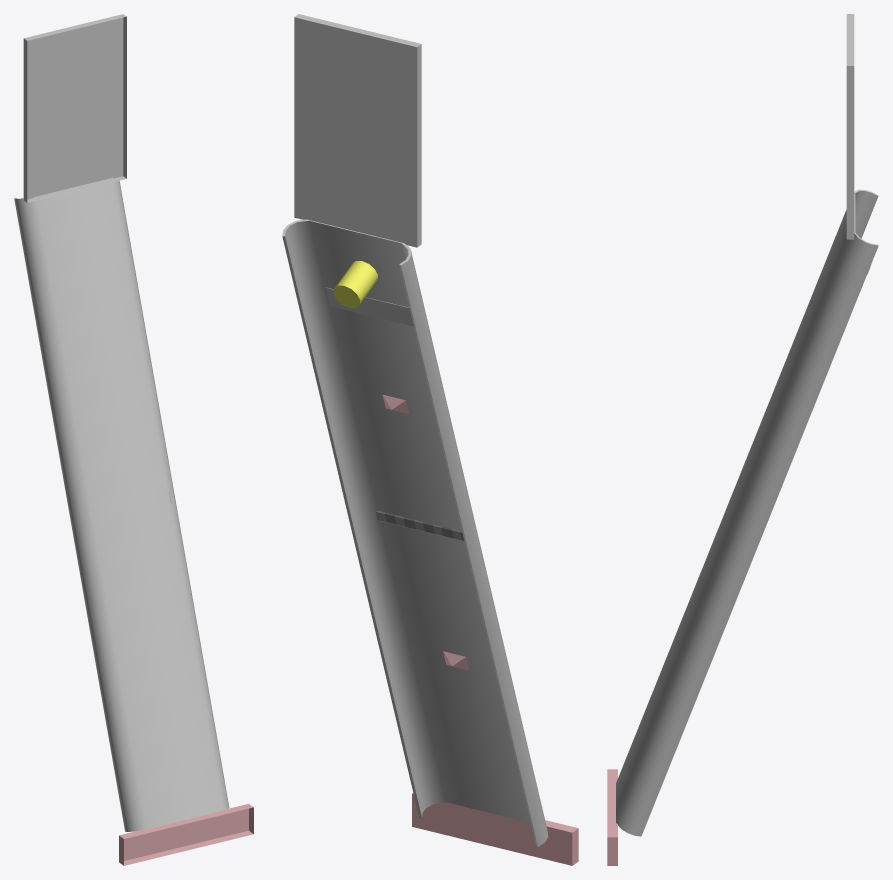
File: Scenes.FBX
3 renders of one model, left to right at view 1: azimuth 30°, elevation 25°; view 2: azimuth 150°, elevation 25°; view 3: azimuth 270°, elevation 25°, orthographic. The views are drawn at different scales.
Parts seen in each view (by area): view 1: SceneModel_10000, DB, ZT; view 2: SceneModel_10000, DB, ZT, Obstacle_30000; view 3: SceneModel_10000, DB, ZT.
Part boxes in pixels (x1,y1,x2,y2): SceneModel_10000: (14, 177, 229, 831); DB: (23, 14, 126, 202); ZT: (119, 804, 253, 865); SceneModel_10000: (282, 219, 548, 846); DB: (294, 14, 421, 247); ZT: (412, 793, 578, 865); Obstacle_30000: (333, 261, 469, 670); SceneModel_10000: (616, 189, 878, 836); DB: (846, 14, 854, 239); ZT: (607, 769, 617, 865).
Size of the model in its own units: 241 by 1310 by 407.
